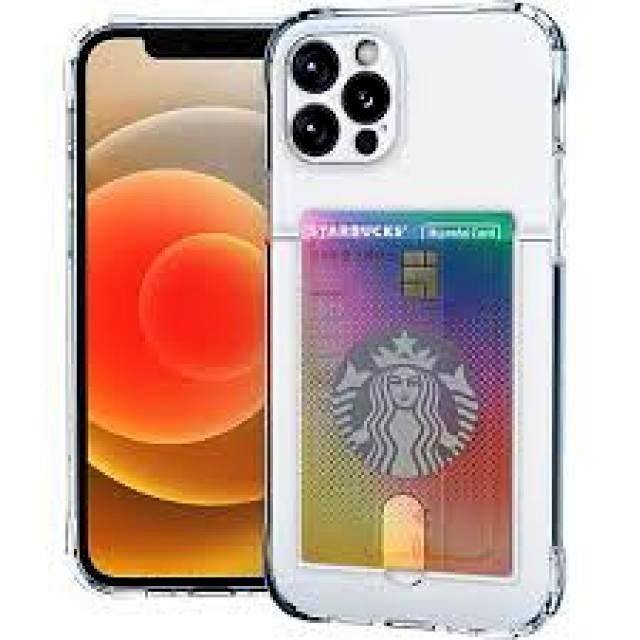lens_back: (287, 101, 346, 164), (345, 61, 398, 128), (289, 33, 338, 96)
phone: (268, 8, 576, 631), (55, 13, 280, 601)
